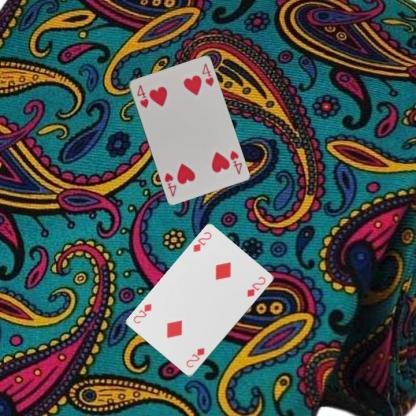2d: (190, 229, 212, 254), (184, 345, 206, 369)
4h: (227, 148, 243, 176), (134, 82, 150, 109)
